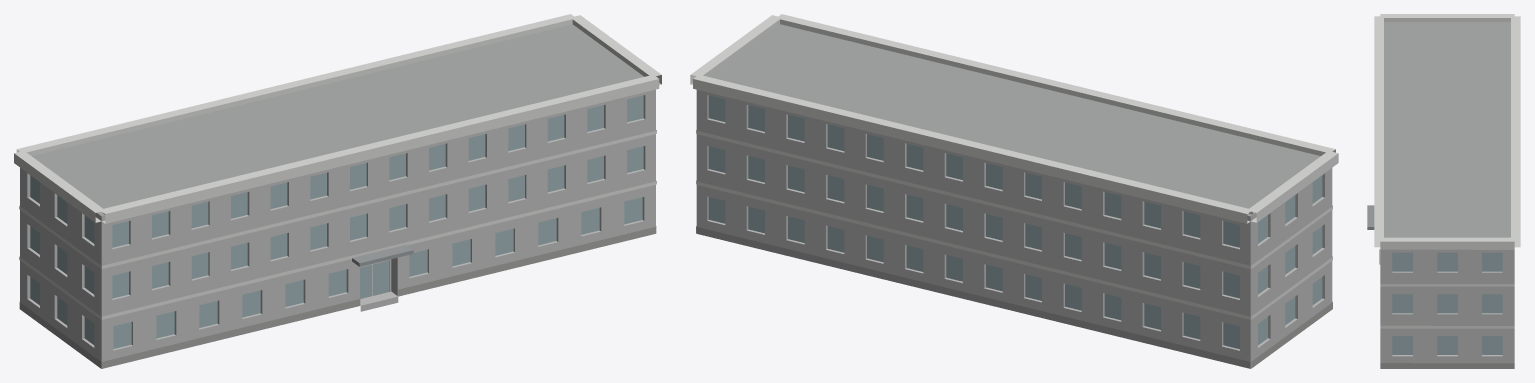
3 views of the same model, side by side, from view 1: azimuth 30°, elevation 25°; view 2: azimuth 150°, elevation 25°; view 3: azimuth 270°, elevation 25° (orthographic). The views are drawn at different scales.
Visible parts, largest first — view 1: b115951764__wall, b115951764__roof, b115951764__trim, b115951764__glass, b115951764__base, b115951764__canopy; view 2: b115951764__wall, b115951764__roof, b115951764__trim, b115951764__glass, b115951764__base; view 3: b115951764__roof, b115951764__wall, b115951764__trim, b115951764__glass, b115951764__base, b115951764__canopy.
Part boxes in pixels (box(x1,y1,x2,y2)): b115951764__wall: box(20, 89, 655, 368); b115951764__roof: box(32, 24, 643, 368); b115951764__trim: box(14, 14, 661, 319); b115951764__glass: box(30, 95, 643, 348); b115951764__base: box(19, 226, 656, 368); b115951764__canopy: box(352, 245, 413, 266); b115951764__wall: box(696, 89, 1332, 368); b115951764__roof: box(708, 24, 1320, 368); b115951764__trim: box(690, 14, 1338, 319); b115951764__glass: box(708, 95, 1322, 349); b115951764__base: box(696, 226, 1332, 368); b115951764__roof: box(1384, 22, 1510, 237); b115951764__wall: box(1380, 249, 1514, 363); b115951764__trim: box(1374, 14, 1520, 328); b115951764__glass: box(1392, 252, 1502, 354); b115951764__base: box(1380, 363, 1514, 368); b115951764__canopy: box(1367, 205, 1374, 229).
Size of the model in its own units: 42.04 by 11.55 by 11.95.
